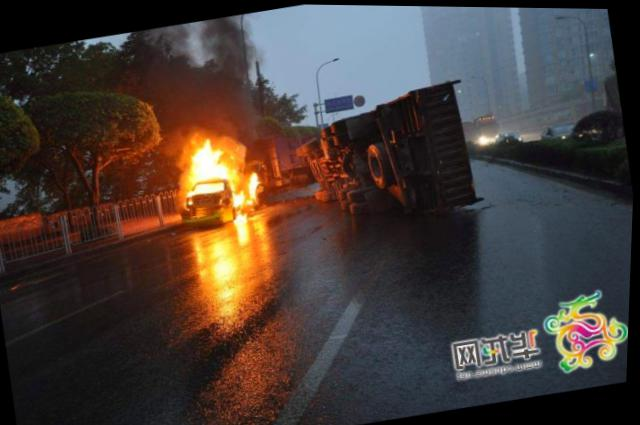fire: (171, 125, 270, 231)
